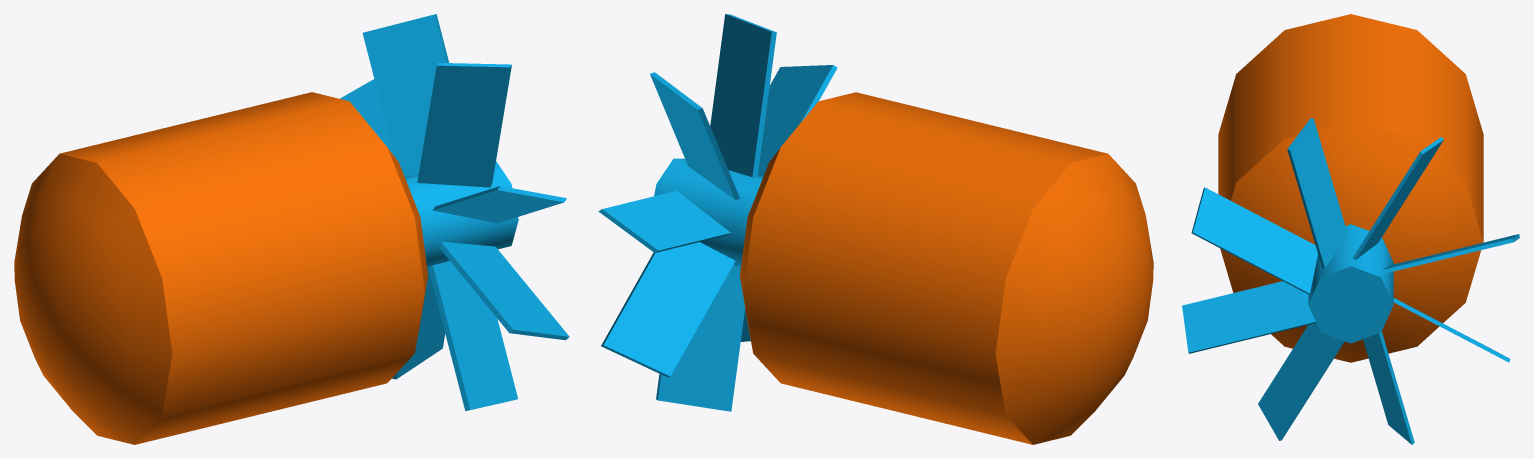
File: missile.FBX
3 renders of one model, left to right at view 1: azimuth 30°, elevation 25°; view 2: azimuth 150°, elevation 25°; view 3: azimuth 270°, elevation 25°, orthographic. The views are drawn at different scales.
Visible parts, largest first — view 1: OilTank001, Cylinder006; view 2: OilTank001, Cylinder006; view 3: OilTank001, Cylinder006.
Part boxes in pixels (left/top/right/bottom): OilTank001: left=14, top=92, right=427, bottom=444; Cylinder006: left=340, top=14, right=569, bottom=410; OilTank001: left=740, top=92, right=1153, bottom=444; Cylinder006: left=598, top=14, right=837, bottom=411; OilTank001: left=1218, top=14, right=1483, bottom=362; Cylinder006: left=1182, top=118, right=1519, bottom=444.
Size of the model in its own units: 37.22 by 27.2 by 27.2.
